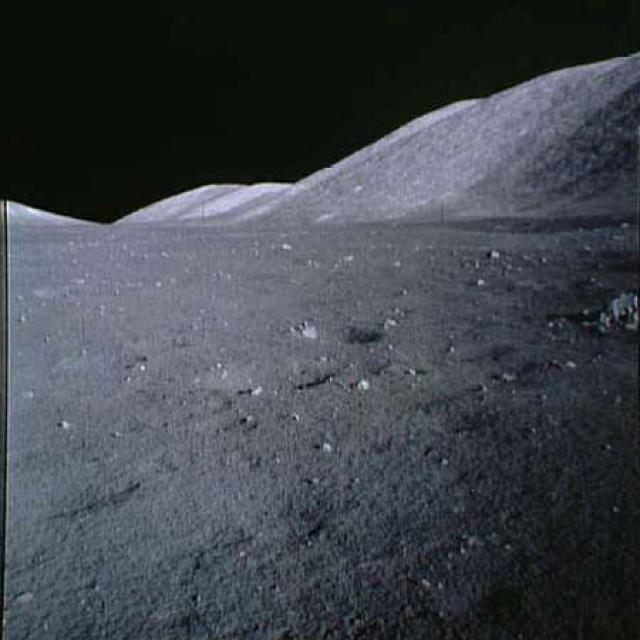crater: (207, 361, 335, 389), (337, 324, 389, 346)
rock: (296, 316, 320, 338)
